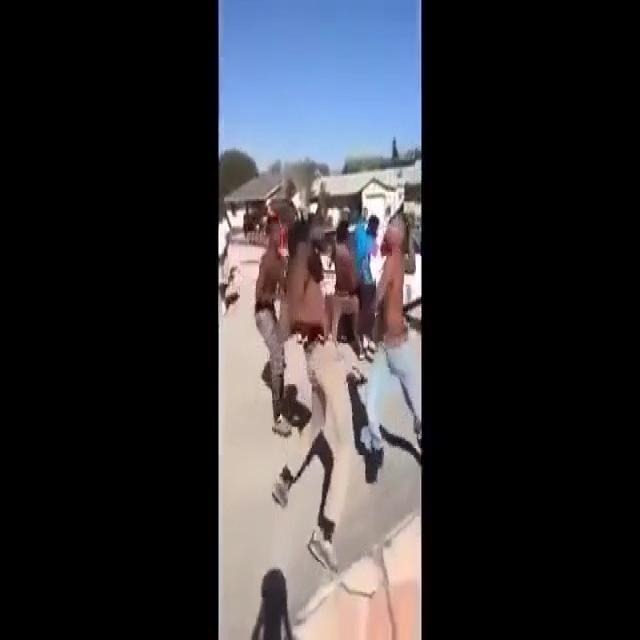Violence: (287, 214, 418, 414)
